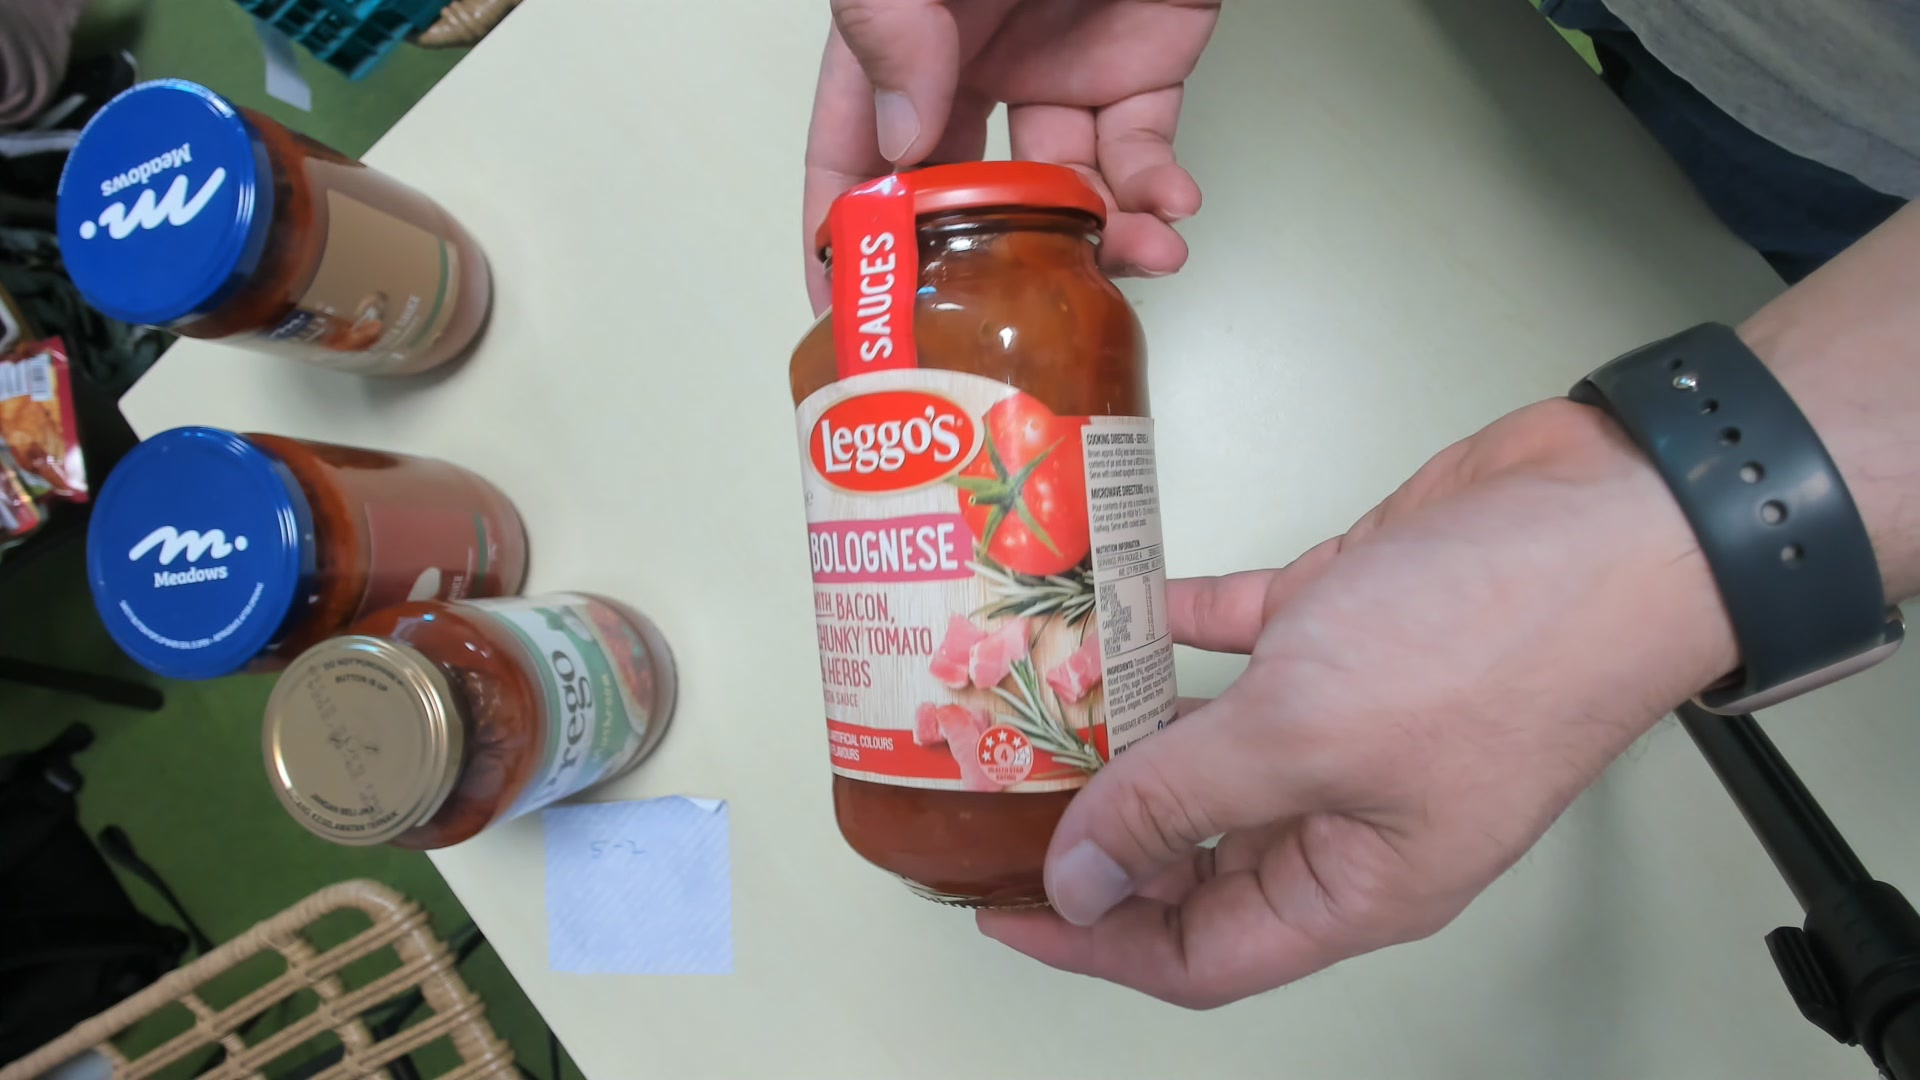PastaSauce_500-599g_Halal_NonHealthy: (785, 160, 1180, 914)
